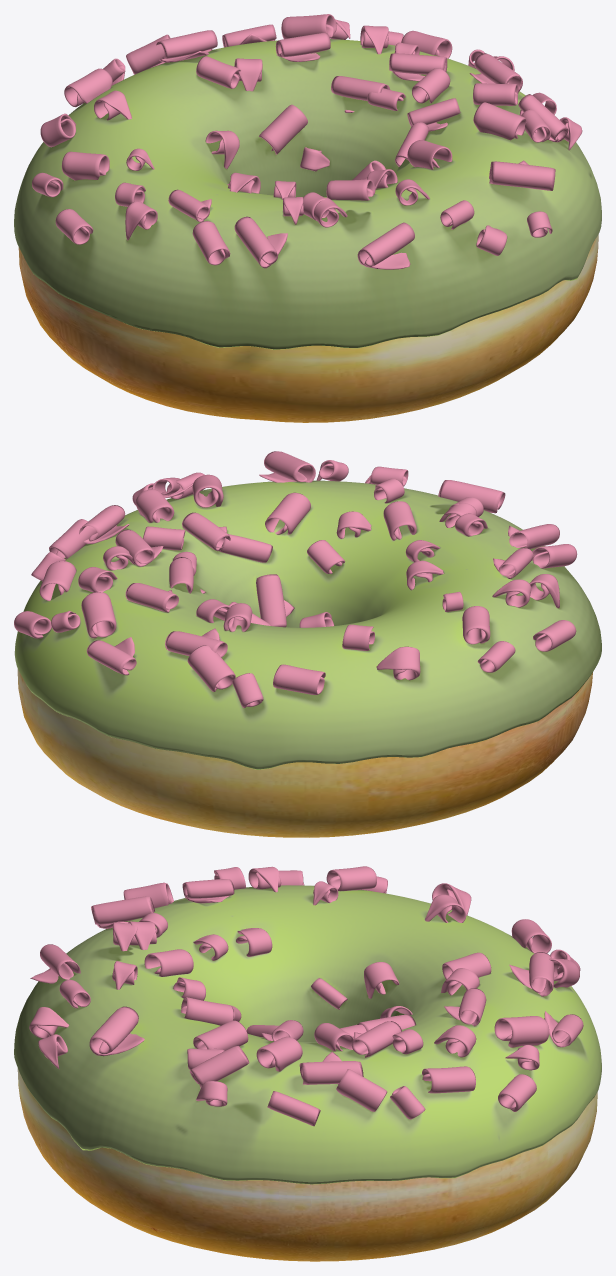
The model's file is pistachio strawberry curls.glb.
3 renders of one model, top to bottom at view 1: azimuth 30°, elevation 25°; view 2: azimuth 150°, elevation 25°; view 3: azimuth 270°, elevation 25°, orthographic. The views are drawn at different scales.
Parts seen in each view (by area): view 1: coffee.001, pustachio, choco & straw curls, Torus; view 2: pustachio, coffee.001, choco & straw curls, Torus; view 3: pustachio, coffee.001, choco & straw curls, Torus.
Part boxes in pixels (<box>): coffee.001: <box>14,39,601,349</box>; pustachio: <box>15,39,601,349</box>; choco & straw curls: <box>32,14,582,269</box>; Torus: <box>18,234,598,422</box>; pustachio: <box>15,481,585,769</box>; coffee.001: <box>14,480,601,769</box>; choco & straw curls: <box>14,451,577,707</box>; Torus: <box>17,669,592,837</box>; pustachio: <box>48,885,601,1184</box>; coffee.001: <box>14,885,601,1184</box>; choco & straw curls: <box>29,866,583,1126</box>; Torus: <box>17,1068,597,1261</box>.
Bounding box in the file's own units: 0.1989 × 0.0804 × 0.1972.
4 materials, 2 textured.
